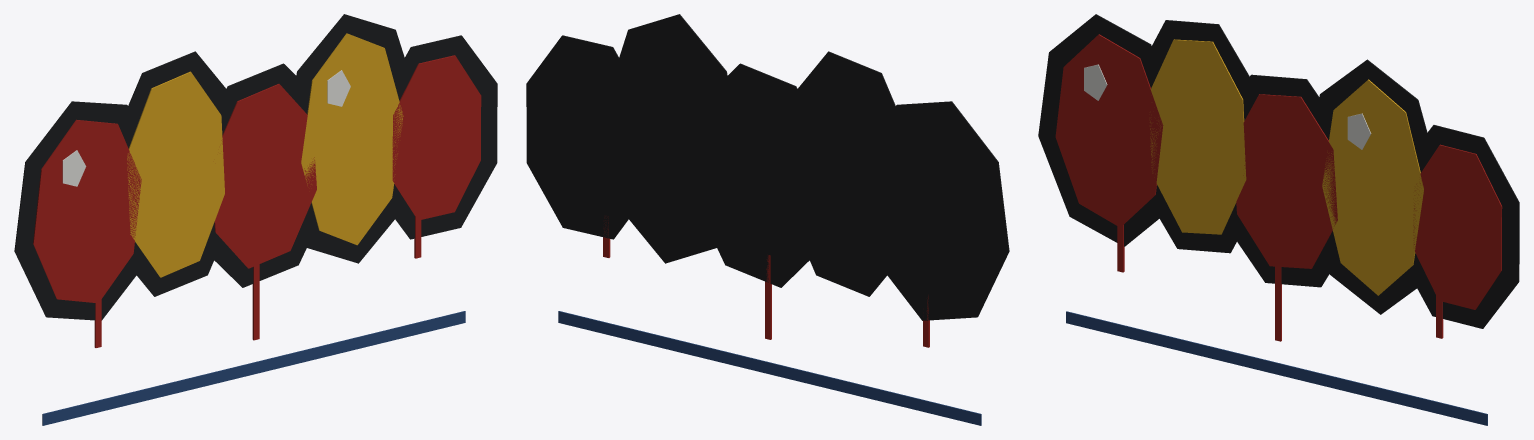
Rendered from graffiti_tag.glb.
The picture shows the model from 3 angles, left to right: view 1: azimuth 30°, elevation 25°; view 2: azimuth 150°, elevation 25°; view 3: azimuth 330°, elevation 25°; orthographic projection.
Visible parts, largest first — view 1: graffiti_tag; view 2: graffiti_tag; view 3: graffiti_tag.
Boxes of the visible parts, x1,y1,x2,y2 form: graffiti_tag: [14, 14, 497, 425]; graffiti_tag: [526, 14, 1009, 425]; graffiti_tag: [1038, 14, 1519, 425].
Bounding box in the file's own units: 1.31 × 0.8784 × 0.008.
Materials: 1 (1 with a texture image).
